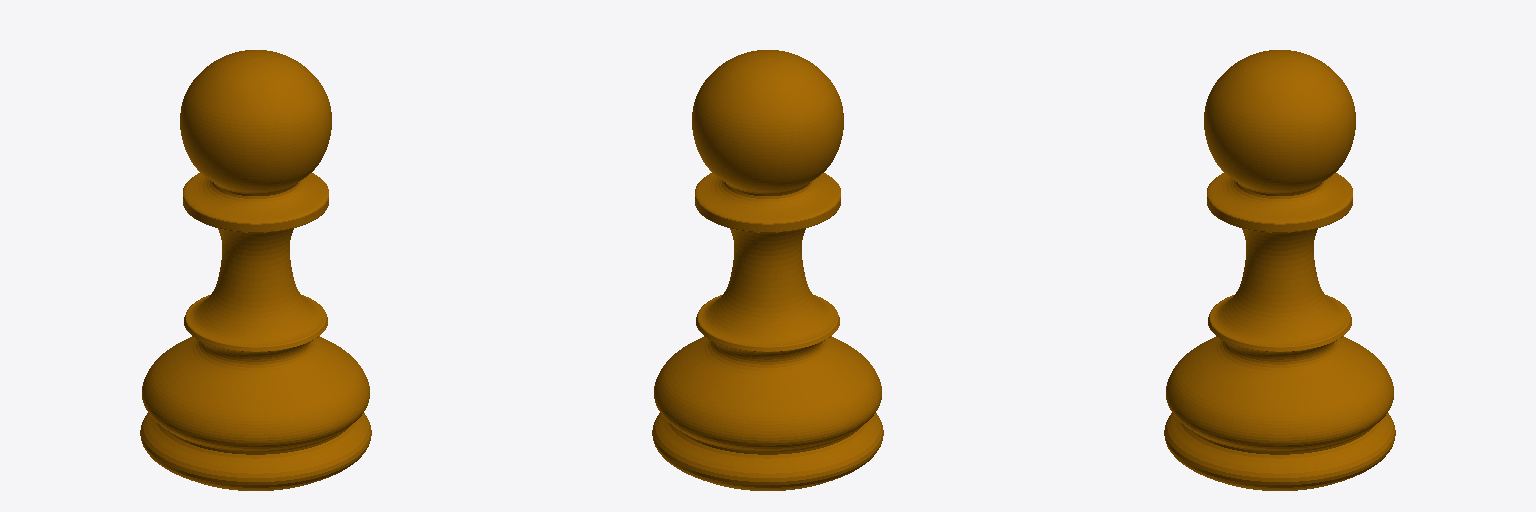
The model's file is pawn.obj.
3 views of the same model, side by side, from view 1: azimuth 30°, elevation 25°; view 2: azimuth 150°, elevation 25°; view 3: azimuth 270°, elevation 25° (orthographic).
Parts seen in each view (by area): view 1: Circle; view 2: Circle; view 3: Circle.
Part boxes in pixels (x1,y1,x2,y2): Circle: (140, 50, 371, 490); Circle: (652, 50, 883, 490); Circle: (1164, 50, 1395, 490).
Size of the model in its own units: 1.86 by 3.51 by 1.86.